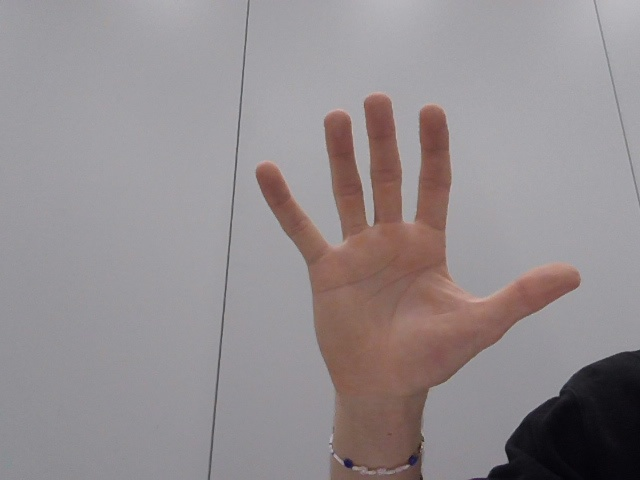nada: (240, 80, 595, 421)
